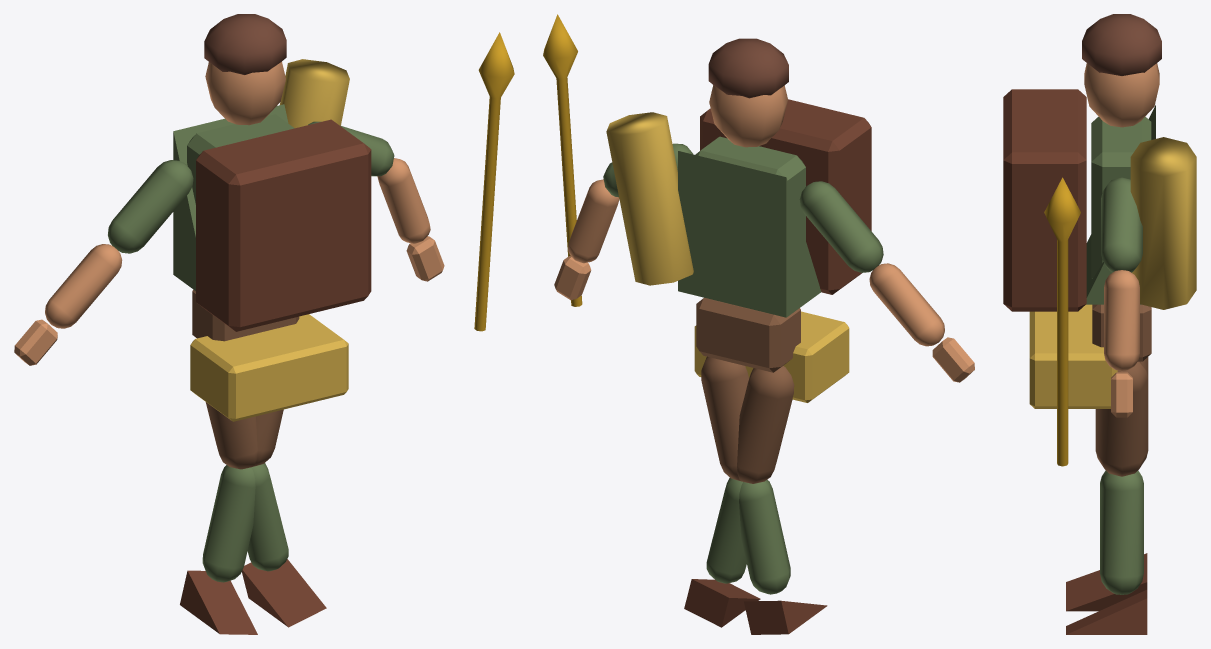
Rendered from adventurer.rustic.glb.
3 renders of one model, left to right at view 1: azimuth 30°, elevation 25°; view 2: azimuth 150°, elevation 25°; view 3: azimuth 270°, elevation 25°, orthographic. The views are drawn at different scales.
Parts seen in each view (by area): view 1: accessory.body, accessory.waist, shin.right, accessory.main-hand, upper-arm.left, hair, accessory.back, head, forearm.left, foot.left, foot.right, tunic (+9 smaller); view 2: tunic, accessory.back, accessory.body, pelvis, thigh.left, accessory.waist, shin.right, upper-arm.left, hair, thigh.right, head, accessory.main-hand (+8 smaller); view 3: accessory.body, accessory.back, accessory.waist, shin.left, accessory.main-hand, hair, thigh.right, torso, head, forearm.right, upper-arm.right, foot.left (+4 smaller).
Part boxes in pixels (x1,y1,x2,y2): accessory.body: (196,119,371,331); accessory.waist: (190,314,348,421); shin.right: (202,465,255,582); accessory.main-hand: (474,32,514,331); upper-arm.left: (108,160,193,253); hair: (204,14,286,74); accessory.back: (280,59,349,128); head: (205,61,285,125); forearm.left: (45,244,122,328); foot.left: (242,559,326,627); foot.right: (180,570,257,634); tunic: (173,104,288,290); tunic: (678,151,821,317); accessory.back: (606,112,693,285); accessory.body: (700,99,871,294); pelvis: (696,297,800,372); thigh.left: (737,366,794,483); accessory.waist: (694,311,849,402); shin.right: (739,479,790,594); upper-arm.left: (799,181,883,272); hair: (708,38,788,98); thigh.right: (701,356,748,481); head: (709,85,787,147); accessory.main-hand: (543,14,582,306); accessory.body: (1003,89,1086,311); accessory.back: (1130,137,1196,309); accessory.waist: (1029,304,1117,408); shin.left: (1100,471,1143,594); accessory.main-hand: (1044,177,1080,466); hair: (1082,14,1161,75); thigh.right: (1095,361,1148,476); torso: (1091,116,1151,278); head: (1084,63,1159,127); forearm.right: (1104,270,1139,371); upper-arm.right: (1101,177,1142,272); foot.left: (1066,590,1147,634).
Bounding box in the file's own units: 2.48 × 3.01 × 0.88.
